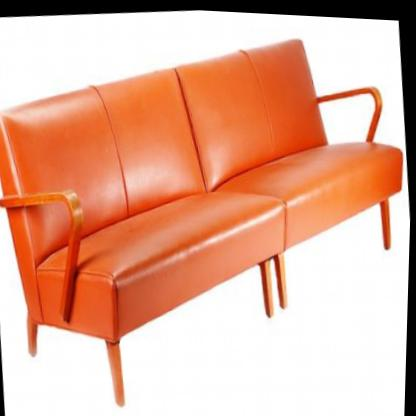Sofa: (0, 11, 416, 416)
